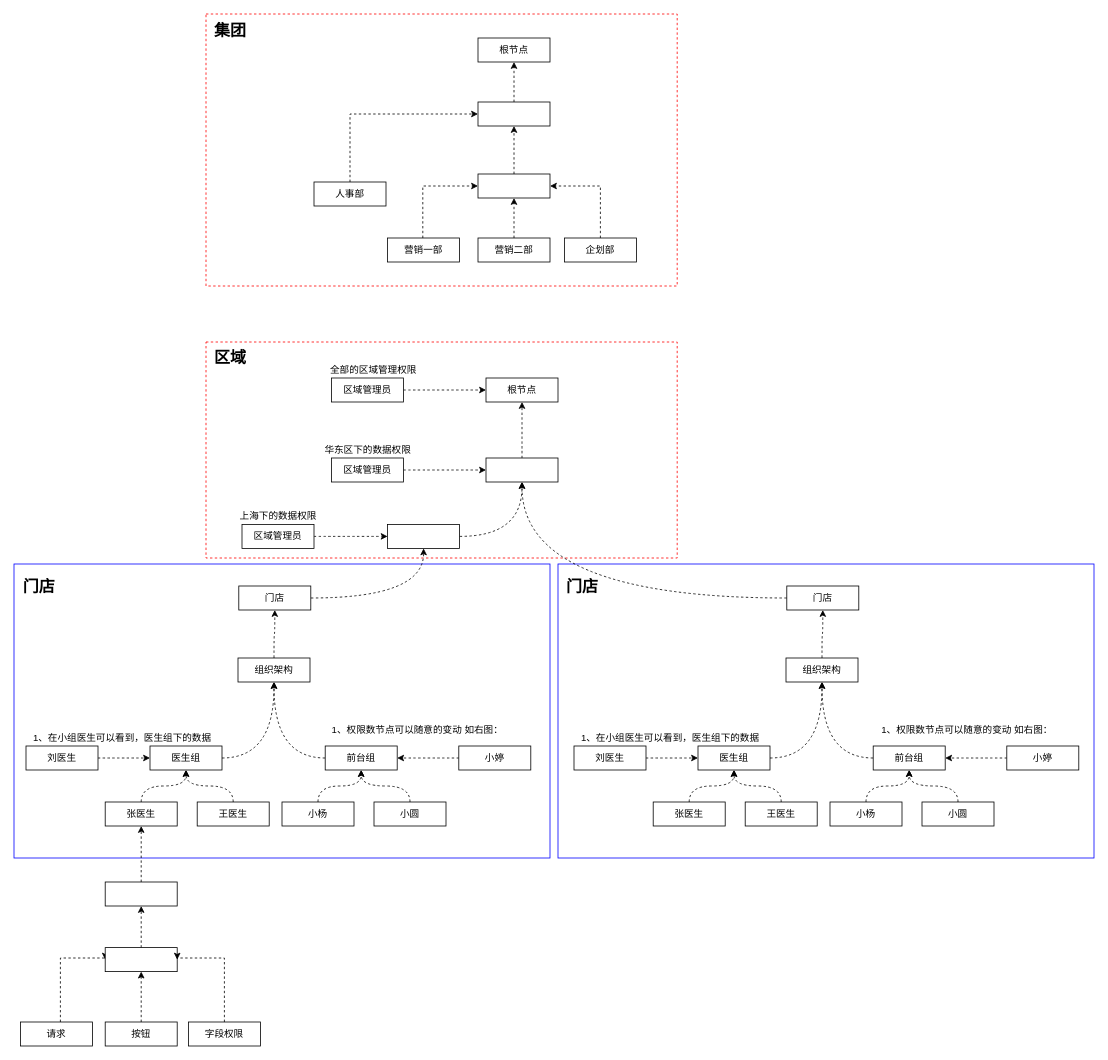
Some shapes in this 1108 by 1060 pixel diagram are drawn without their labels. Here are the shapes that lost their labels. From the top down, the centre of each, then its label:
At pixel 513 113: "管理员".
At pixel 513 185: "营销部".
At pixel 521 469: "华东区".
At pixel 423 536: "上海".
At pixel 140 893: "角色".
At pixel 140 959: "菜单".
